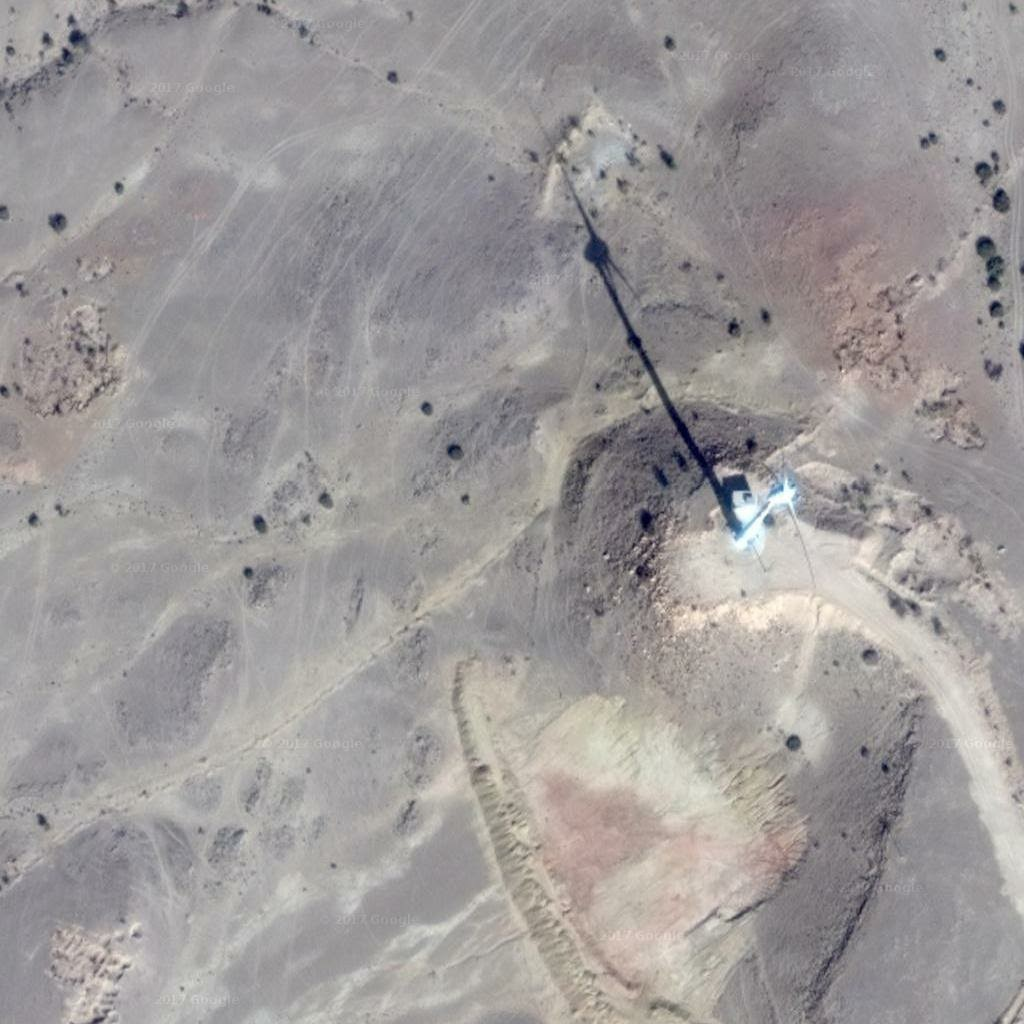Windmill: (549, 161, 743, 499)
